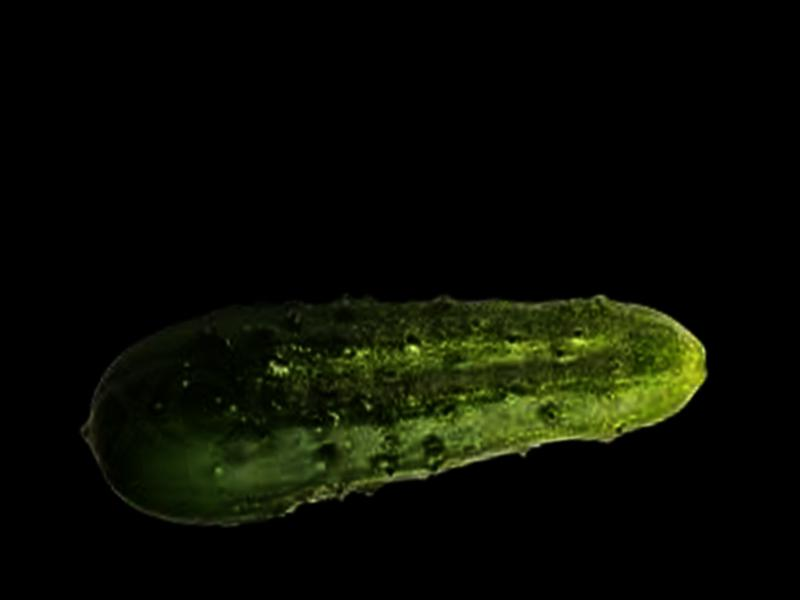Cucumber: (66, 241, 719, 543)
